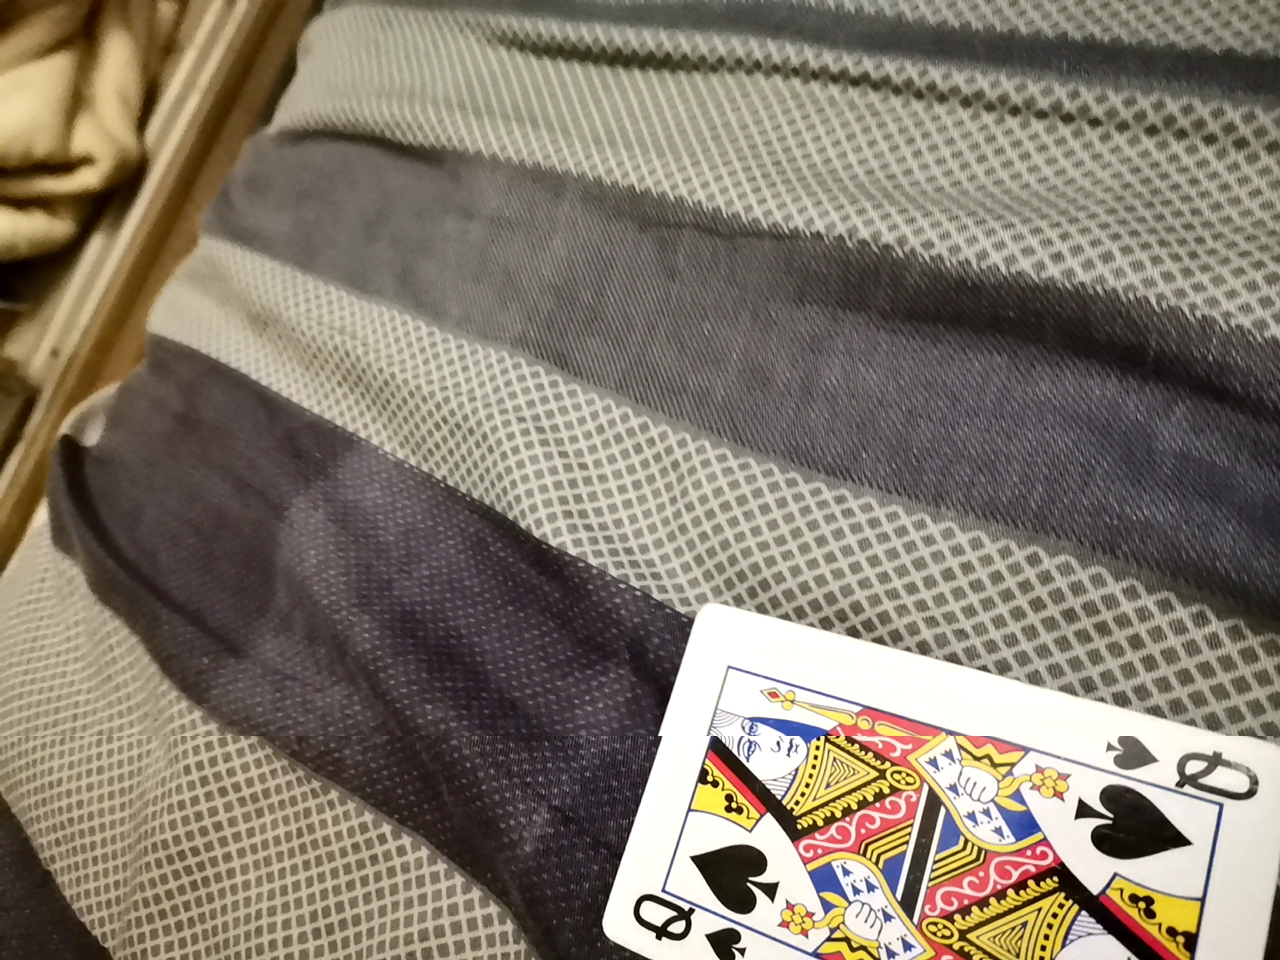ht q: (562, 602, 1263, 953)
